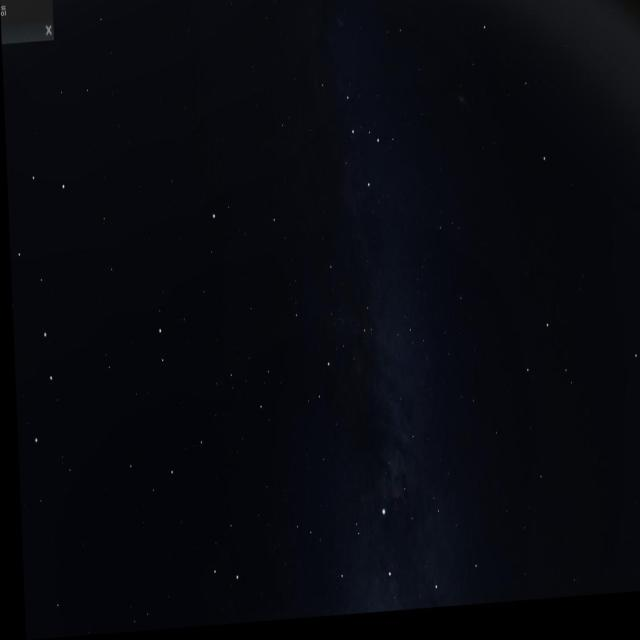cassiopeia: (298, 74, 416, 223)
cygnus: (322, 492, 438, 620)
ursa_major: (5, 161, 80, 470)
